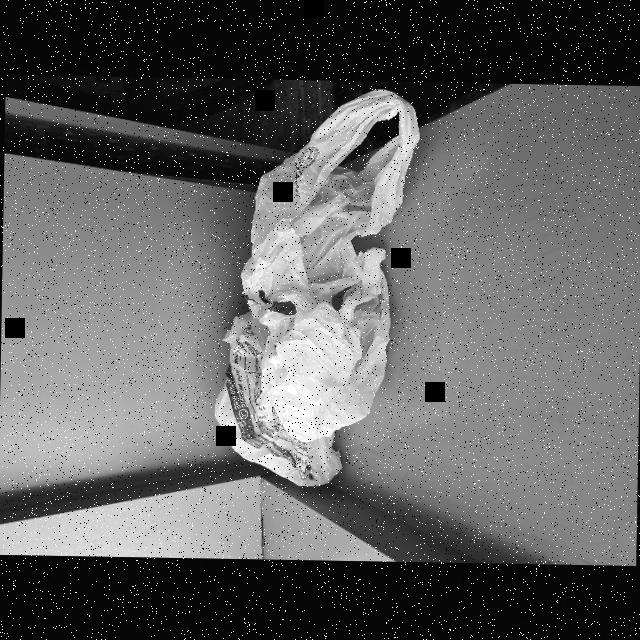plastic_bag: (212, 89, 431, 488)
